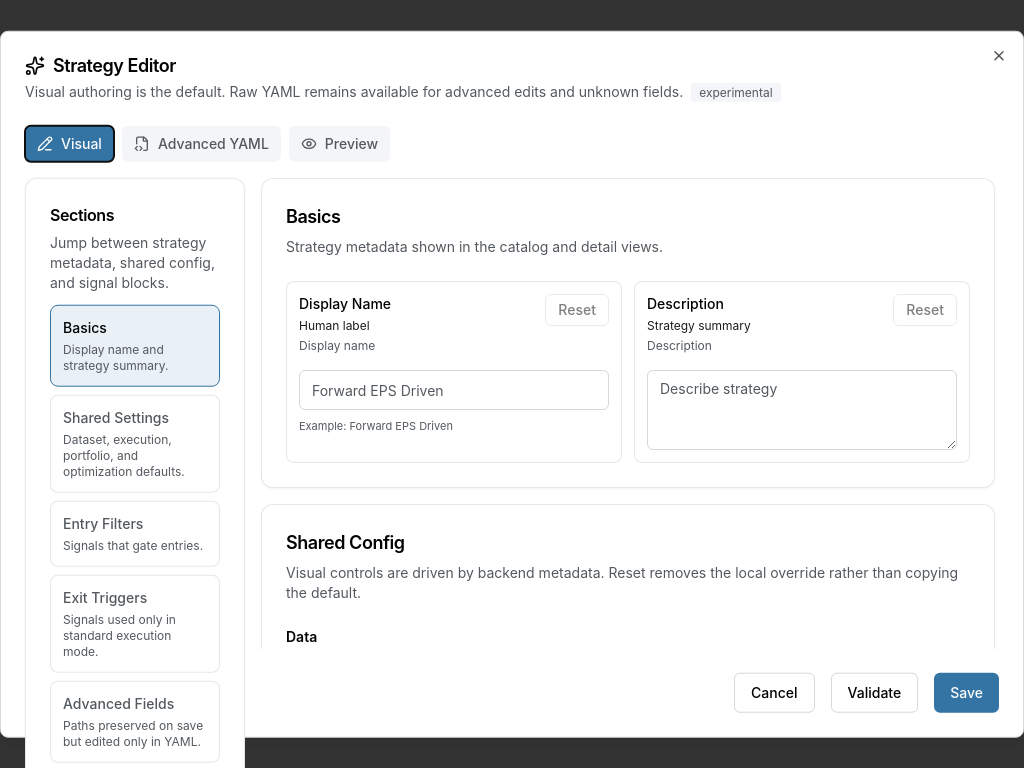
StrategyEditor › surfaces validation request failures in preview
Click the button "Validate" at (874, 692), box [831,672,918,712]
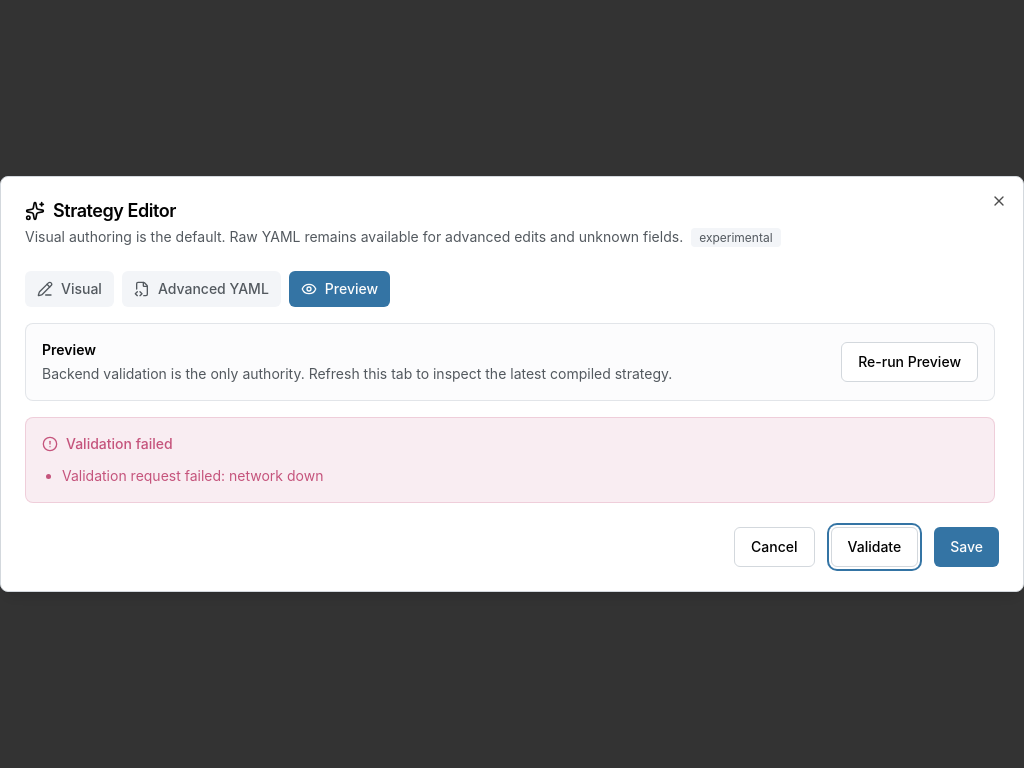
Check: the text "Validation failed" is shown, box [66,434,173,454]
Check: the list item "Validation request failed: network down" is shown, box [62,467,323,484]
